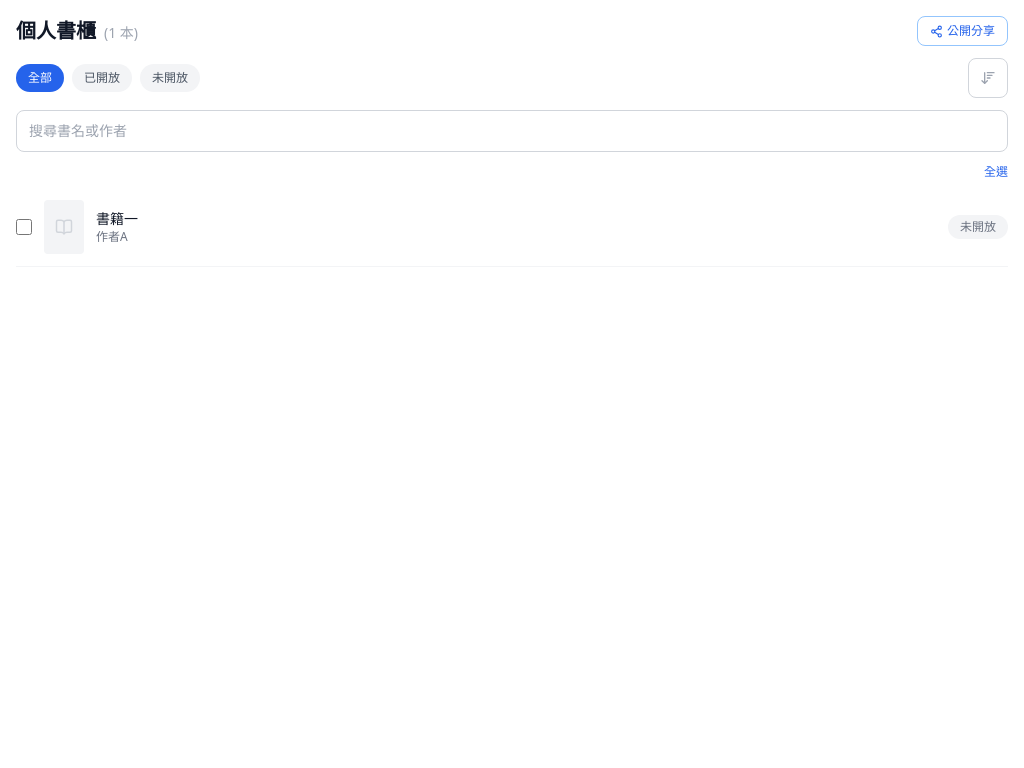
PersonalShelfPage › save flow PATCHes only the changed (server-known) book
Expected: the text "書籍一" is shown, [96,209,138,229]
# Batch share to make dirty
Click the checkbox named "選取 書籍一" at (24, 227), box [16,219,32,235]
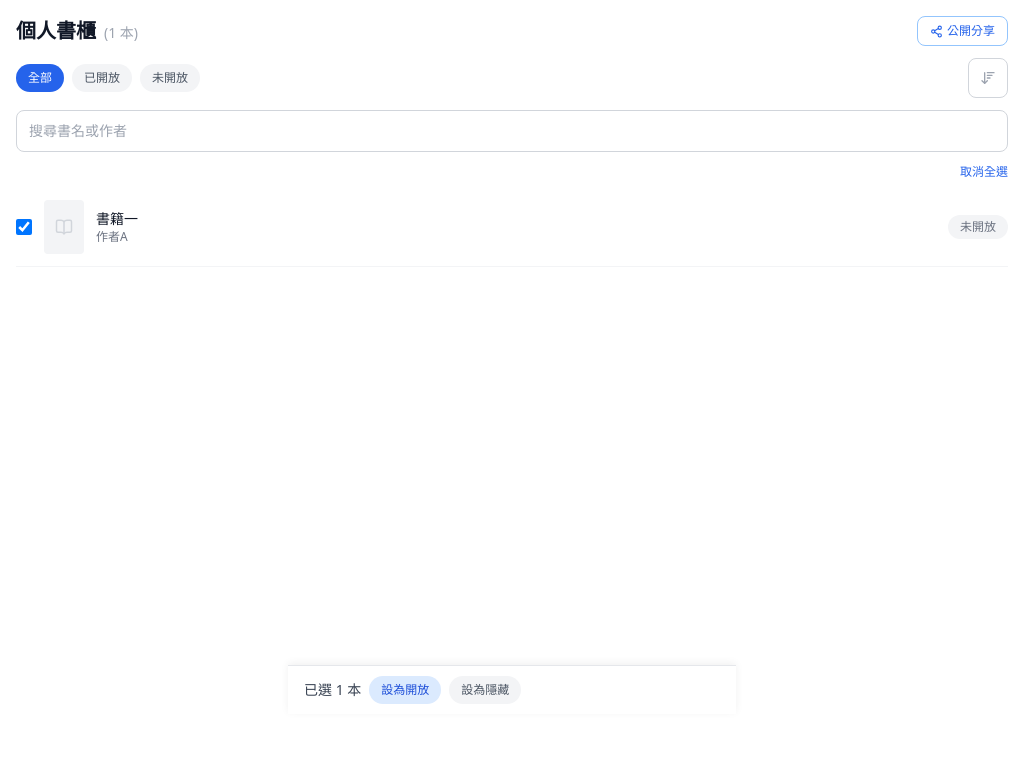
Click the button "設為開放" at (405, 690), box [369,676,441,704]
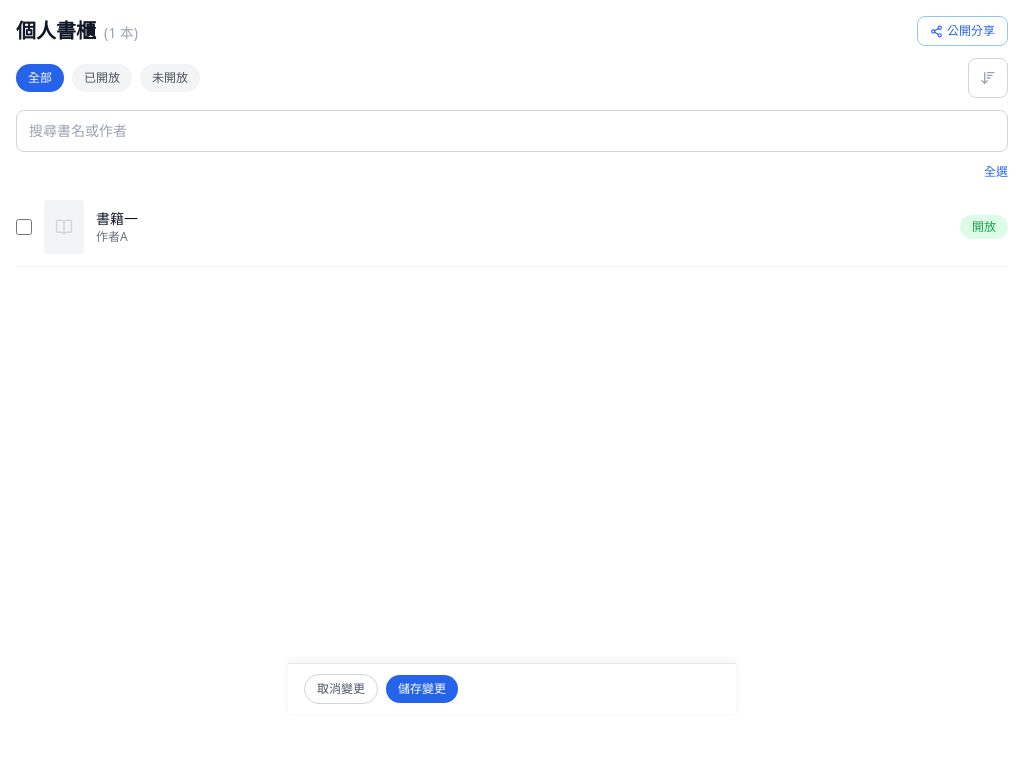
# Click save in floating bar
Click the button "儲存變更" at (422, 689), box [386,675,458,703]
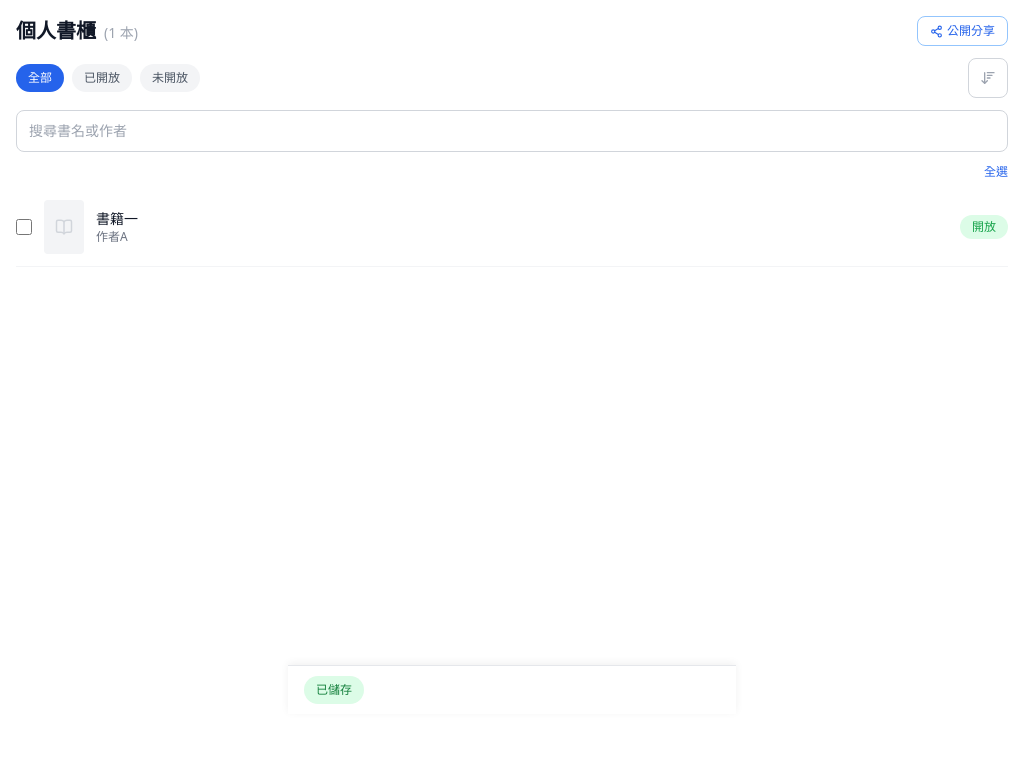
Result: the button "已儲存" is shown at [304,676,364,704]
